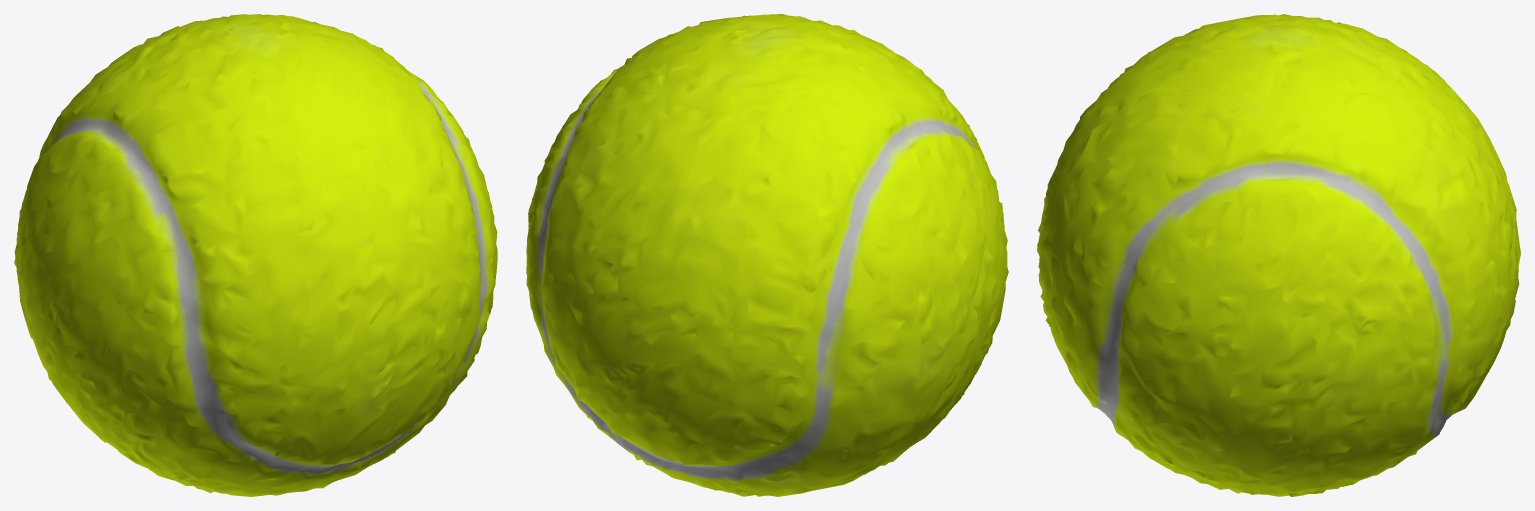
Rendered from tennis-ball-web.glb.
3 renders of one model, left to right at view 1: azimuth 30°, elevation 25°; view 2: azimuth 150°, elevation 25°; view 3: azimuth 270°, elevation 25°, orthographic.
Visible parts, largest first — view 1: defaultMaterial; view 2: defaultMaterial; view 3: defaultMaterial.
Boxes of the visible parts, x1,y1,x2,y2 form: defaultMaterial: (14,14,497,496); defaultMaterial: (526,14,1008,496); defaultMaterial: (1037,14,1520,496).
Size of the model in its own units: 2 by 1.99 by 2.
1 material, 1 textured.
